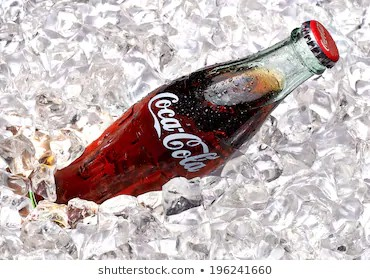coke-glass-bottle: (33, 18, 344, 219)
